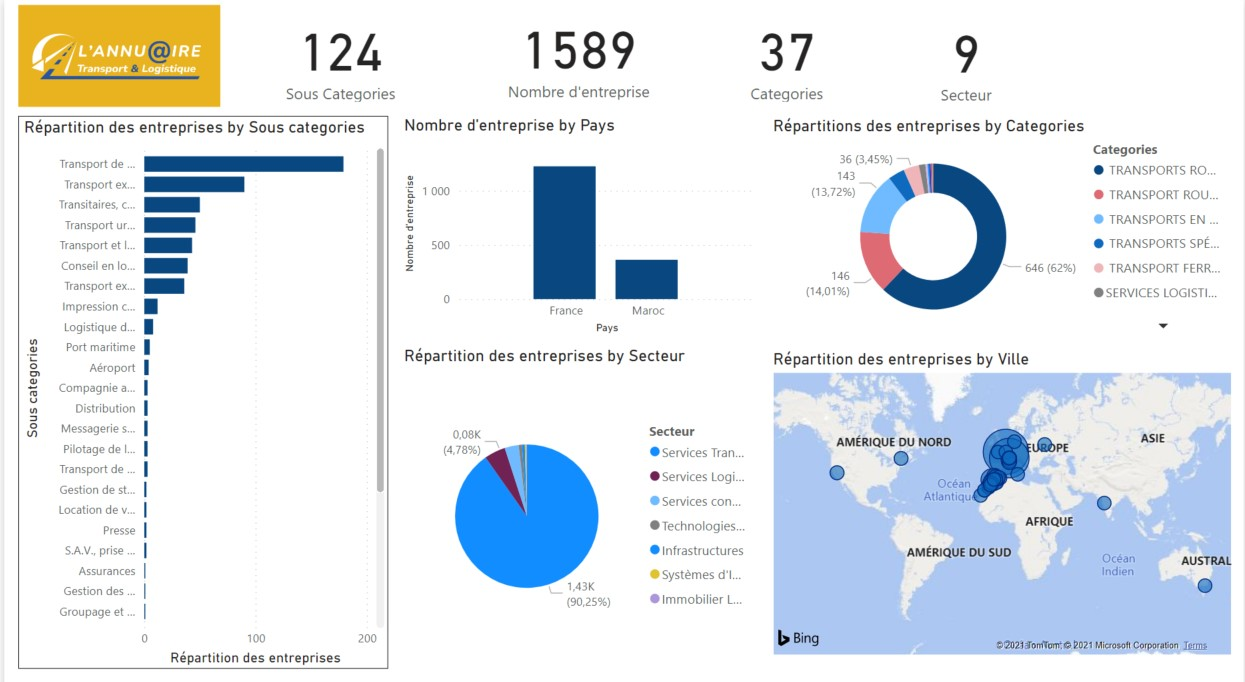

The dashboard page shown, as its layout file describes it:
{"tool":"powerbi","page":{"name":"Page 1","canvas":[1280,720],"ordinal":0},"visuals":[{"type":"barChart","fields":{"Y":["Count(Data Classification Sous Categorie.Nombre d'entreprise)"],"Category":["Data Classification Sous Categorie.Sous categories"]},"box":[14.6,119.4,382,571.3],"z":0},{"type":"donutChart","fields":{"Y":["Count(Classification categories.Nombre d'entreprise)"],"Category":["Classification categories.Secteur"]},"box":[788.7,119.4,483.4,229.9],"z":1000},{"type":"pieChart","fields":{"Y":["Count(Data Par Secteur.Column1)"],"Category":["Data Par Secteur.Secteur"]},"box":[407.6,357.9,372.1,332.3],"z":2000},{"type":"card","fields":{"Values":["CountNonNull(Sous categorie.Sous Categories)"]},"box":[241.1,5.6,213,104.8],"z":3000},{"type":"card","fields":{"Values":["Count(Categorie.Nombre d'entreprise)"]},"box":[729,5.6,157.7,104.8],"z":4000},{"type":"card","fields":{"Values":["Count(Secteur.id secteur)"]},"box":[649,197.4,79.5,110.8],"z":5000},{"type":"columnChart","fields":{"Category":["Map.Pays"],"Y":["Count(Map.Column1)"]},"box":[407.6,119.3,372.1,230.1],"z":6000},{"type":"card","fields":{"Values":["Count(Map.Nombre d'entreprise)"]},"box":[471,3.4,244.5,104.8],"z":7000},{"type":"map","fields":{"Category":["Map.Ville"],"Size":["Count(Map.Nombre d'entreprise)"]},"box":[788.7,360.6,483.4,321.1],"z":8000},{"type":"image","box":[14.2,5.7,208.8,105.1],"z":9000},{"type":"card","fields":{"Values":["Count(Secteur.id secteur)"]},"box":[904.8,9,176.9,100.3],"z":10000}]}

Visuals, with their boxes in screenshot pixels (x1, y1, x2, y2), scaled from the page's 1280x720 canvas onto the 1245x682 screenshot:
barChart - Count(Data Classification Sous Categorie.Nombre d'entreprise) x Data Classification Sous Categorie.Sous categories: (x1=14, y1=113, x2=386, y2=654)
donutChart - Count(Classification categories.Nombre d'entreprise) x Classification categories.Secteur: (x1=767, y1=113, x2=1237, y2=331)
pieChart - Count(Data Par Secteur.Column1) x Data Par Secteur.Secteur: (x1=396, y1=339, x2=758, y2=654)
card - CountNonNull(Sous categorie.Sous Categories): (x1=235, y1=5, x2=442, y2=105)
card - Count(Categorie.Nombre d'entreprise): (x1=709, y1=5, x2=862, y2=105)
card - Count(Secteur.id secteur): (x1=631, y1=187, x2=709, y2=292)
columnChart - Map.Pays x Count(Map.Column1): (x1=396, y1=113, x2=758, y2=331)
card - Count(Map.Nombre d'entreprise): (x1=458, y1=3, x2=696, y2=102)
map - Map.Ville x Count(Map.Nombre d'entreprise): (x1=767, y1=342, x2=1237, y2=646)
image: (x1=14, y1=5, x2=217, y2=105)
card - Count(Secteur.id secteur): (x1=880, y1=9, x2=1052, y2=104)
